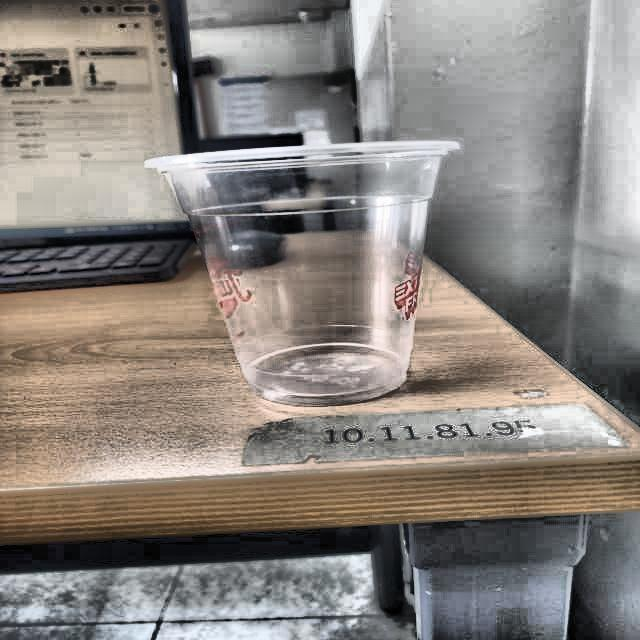plastic cup: (142, 138, 463, 406)
